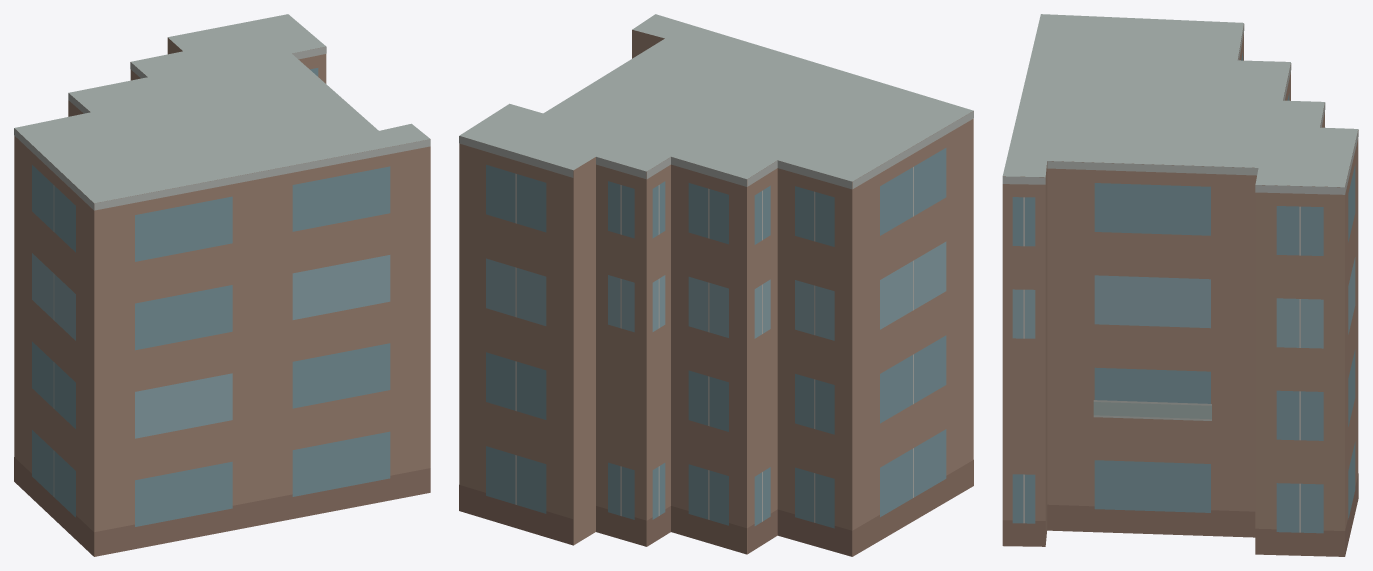
Rendered from survey-upis-32531135.glb.
3 views of the same model, side by side, from view 1: azimuth 30°, elevation 25°; view 2: azimuth 150°, elevation 25°; view 3: azimuth 270°, elevation 25° (orthographic). The views are drawn at different scales.
Visible parts, largest first — view 1: survey-upis-32531135.tmp; view 2: survey-upis-32531135.tmp; view 3: survey-upis-32531135.tmp.
Part boxes in pixels (x1=…): survey-upis-32531135.tmp: x1=14, y1=14, x2=430, y2=556; survey-upis-32531135.tmp: x1=459, y1=14, x2=973, y2=556; survey-upis-32531135.tmp: x1=1002, y1=14, x2=1358, y2=556.
Size of the model in its own units: 11.87 by 11.8 by 10.31.
